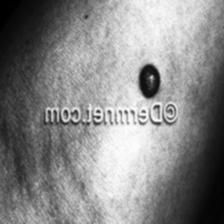Potentially Malignant Skin Tumors: (138, 64, 162, 98)
